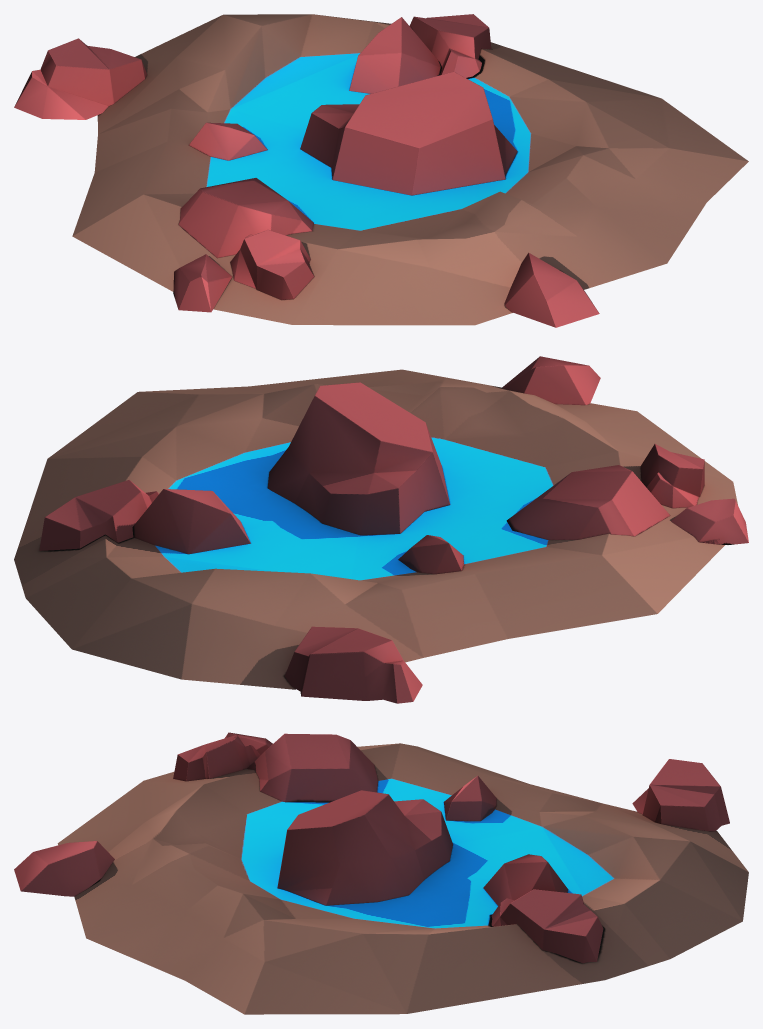
Rendered from shuikeng_01.fbx.
The picture shows the model from 3 angles, top to bottom: view 1: azimuth 30°, elevation 25°; view 2: azimuth 150°, elevation 25°; view 3: azimuth 270°, elevation 25°; orthographic projection. The views are drawn at different scales.
Parts seen in each view (by area): view 1: shuikeng_01; view 2: shuikeng_01; view 3: shuikeng_01.
Part boxes in pixels (left/top/right/bottom): shuikeng_01: left=14, top=14, right=748, bottom=327; shuikeng_01: left=14, top=356, right=748, bottom=703; shuikeng_01: left=14, top=732, right=748, bottom=1014.
Size of the model in its own units: 20.77 by 3.58 by 24.07.
1 material, 1 textured.
